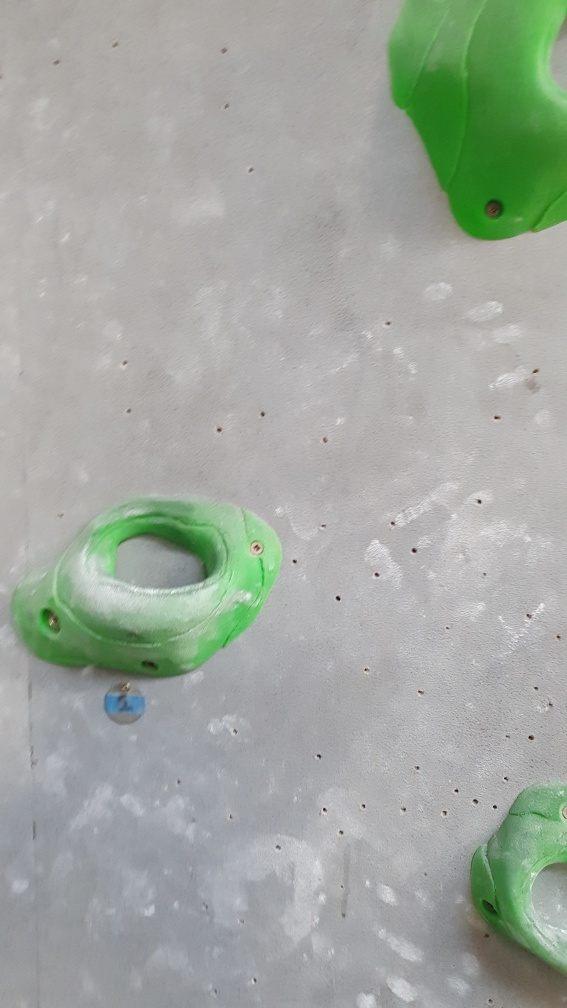Hand Start: (102, 680, 151, 727)
Pocket: (13, 491, 285, 680), (468, 783, 567, 981)
